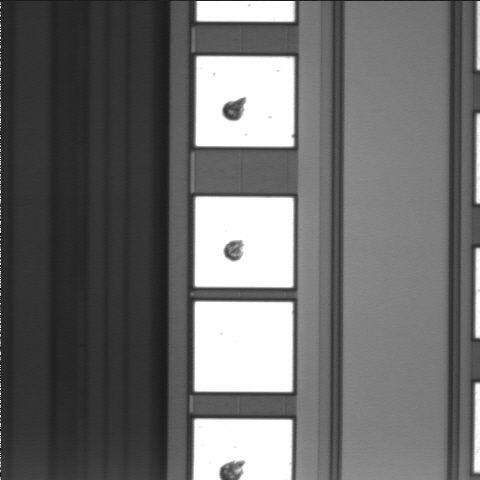pad: (196, 56, 294, 147), (195, 197, 294, 287), (195, 302, 293, 392)
